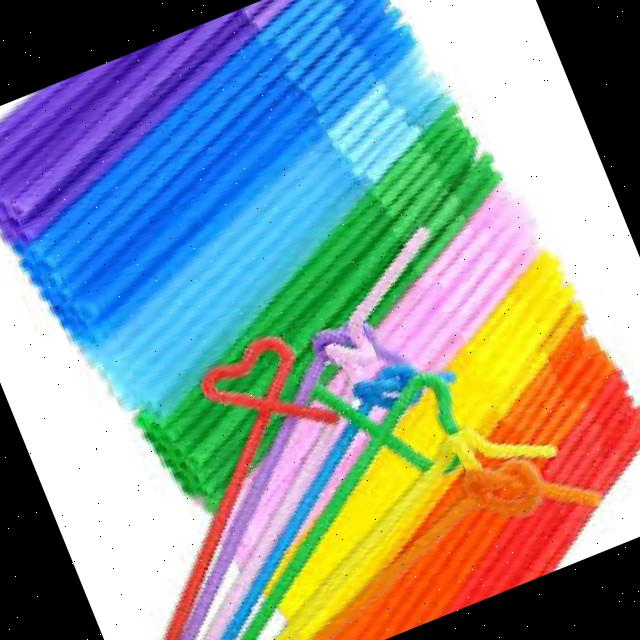plastic: (16, 302, 407, 640)
